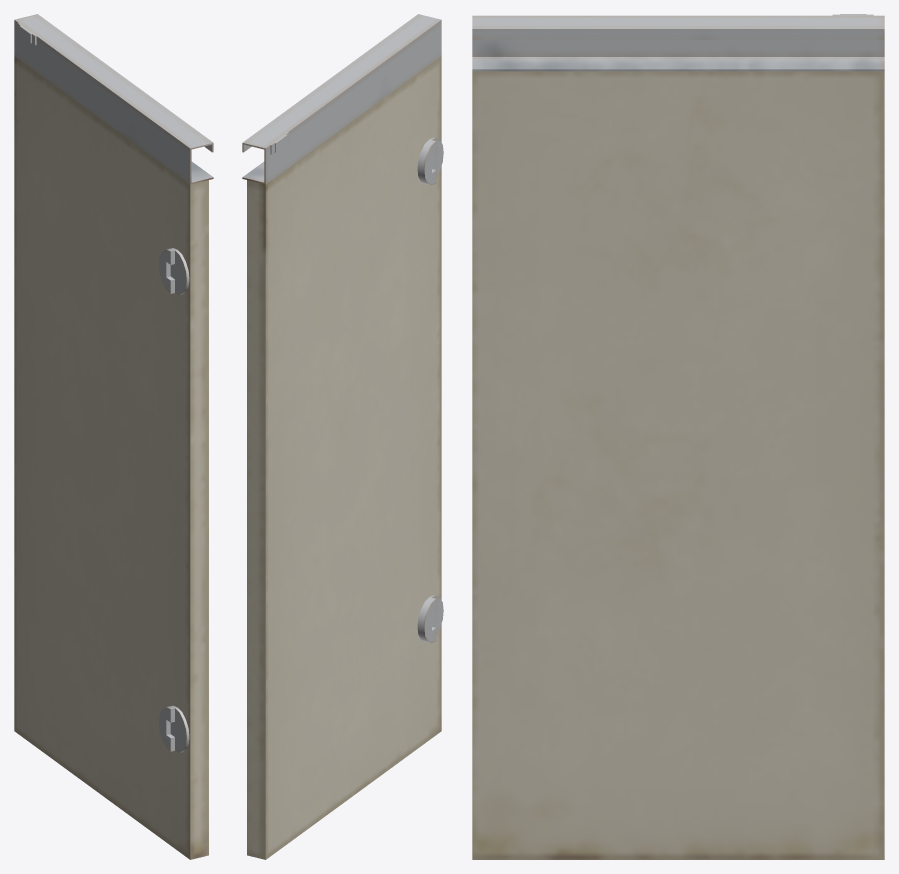
Rendered from FurnitureKicthen01_DoorDownLeft01.FBX.
3 views of the same model, side by side, from view 1: azimuth 30°, elevation 25°; view 2: azimuth 150°, elevation 25°; view 3: azimuth 270°, elevation 25° (orthographic). The views are drawn at different scales.
Parts seen in each view (by area): view 1: FurnitureKicthen01_DoorDownLeft01; view 2: FurnitureKicthen01_DoorDownLeft01; view 3: FurnitureKicthen01_DoorDownLeft01.
Part boxes in pixels (box(x1,y1,x2,y2)): FurnitureKicthen01_DoorDownLeft01: box(14, 14, 213, 859); FurnitureKicthen01_DoorDownLeft01: box(242, 14, 443, 859); FurnitureKicthen01_DoorDownLeft01: box(472, 14, 884, 859).
Size of the model in its own units: 3.24 by 32.5 by 72.5.
